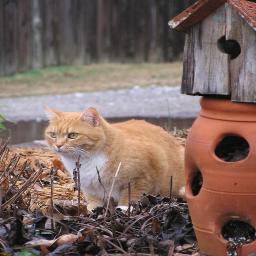catnose: (56, 143, 64, 150)
